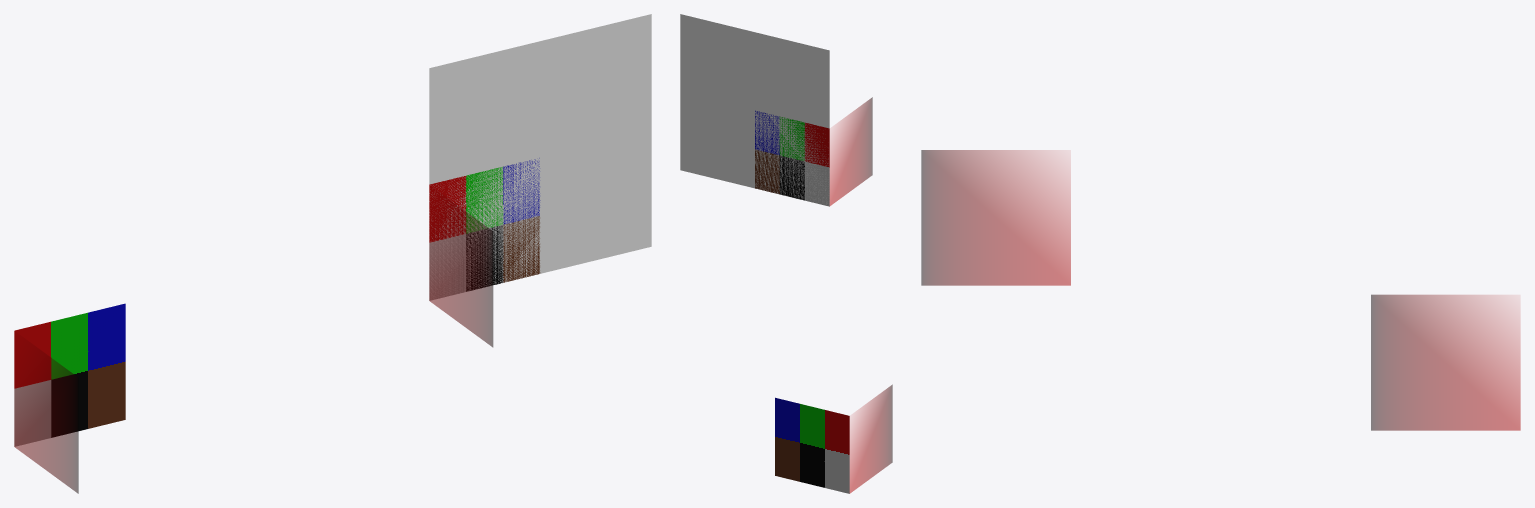
Rendered from parts.glb.
3 views of the same model, side by side, from view 1: azimuth 30°, elevation 25°; view 2: azimuth 150°, elevation 25°; view 3: azimuth 270°, elevation 25° (orthographic). The views are drawn at different scales.
Visible parts, largest first — view 1: tip, body_copy, body, arm; view 2: tip, body_copy, body, arm; view 3: body, body_copy.
Boxes of the visible parts, <box> form: tip: <box>429,14,651,299</box>; body_copy: <box>14,303,125,493</box>; body: <box>429,158,540,347</box>; arm: <box>429,41,540,184</box>; tip: <box>680,14,829,205</box>; body_copy: <box>775,384,892,493</box>; body: <box>755,97,872,206</box>; arm: <box>755,32,829,128</box>; body: <box>921,150,1070,285</box>; body_copy: <box>1371,294,1520,430</box>.
Size of the model in its own units: 4 by 4 by 4.
2 materials, 1 textured.
